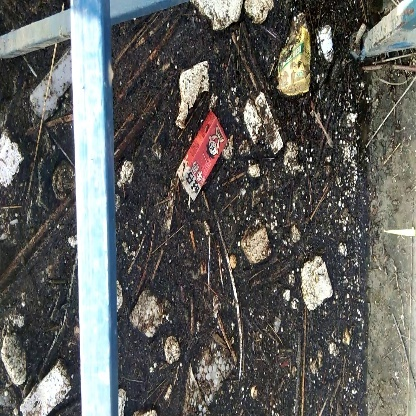milk-box: (174, 108, 228, 204)
plastic-bag: (271, 14, 318, 102)
